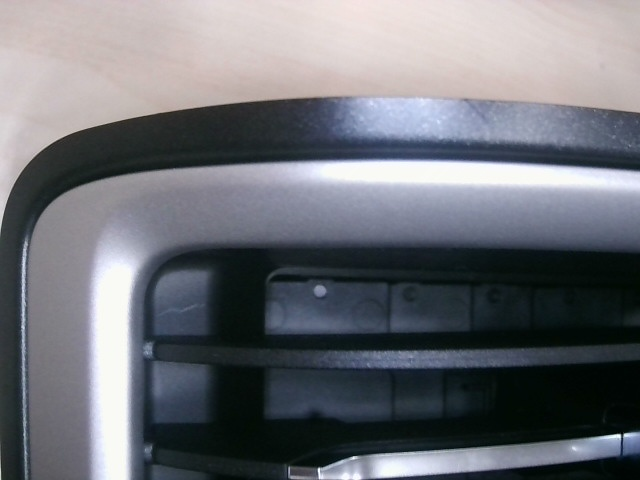NG: (449, 88, 507, 157)
